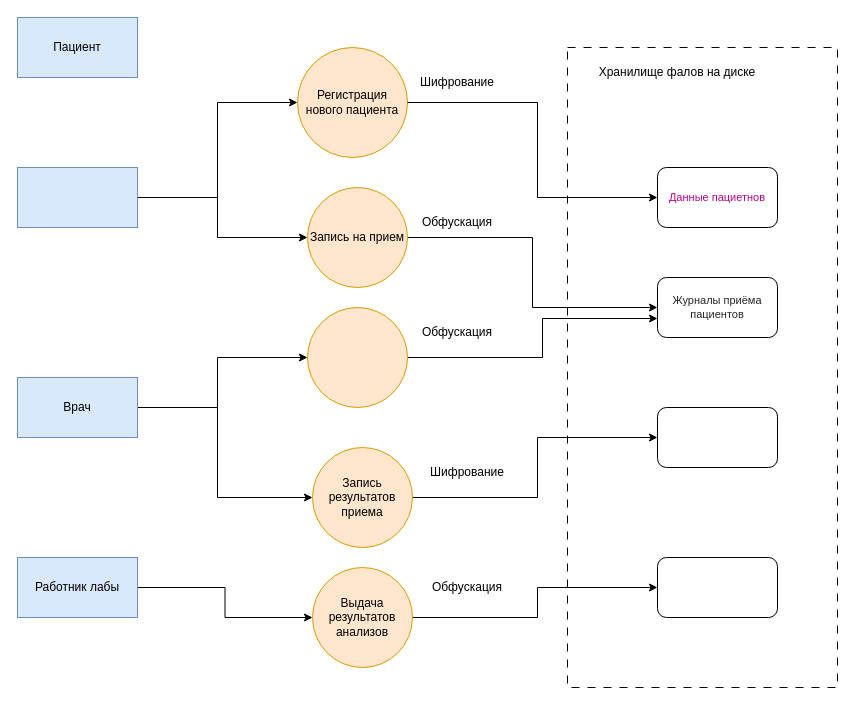
This 855x705 diagram has some shape labels left out. The box of each missing label's shape, as (x1, y1, x2, y2) in pixels:
Анализы: (656, 556, 778, 618)
Запись что прием состоялся: (306, 306, 408, 408)
медицинские карты: (656, 406, 778, 468)
Сотрудник ресепшена: (16, 166, 138, 228)
